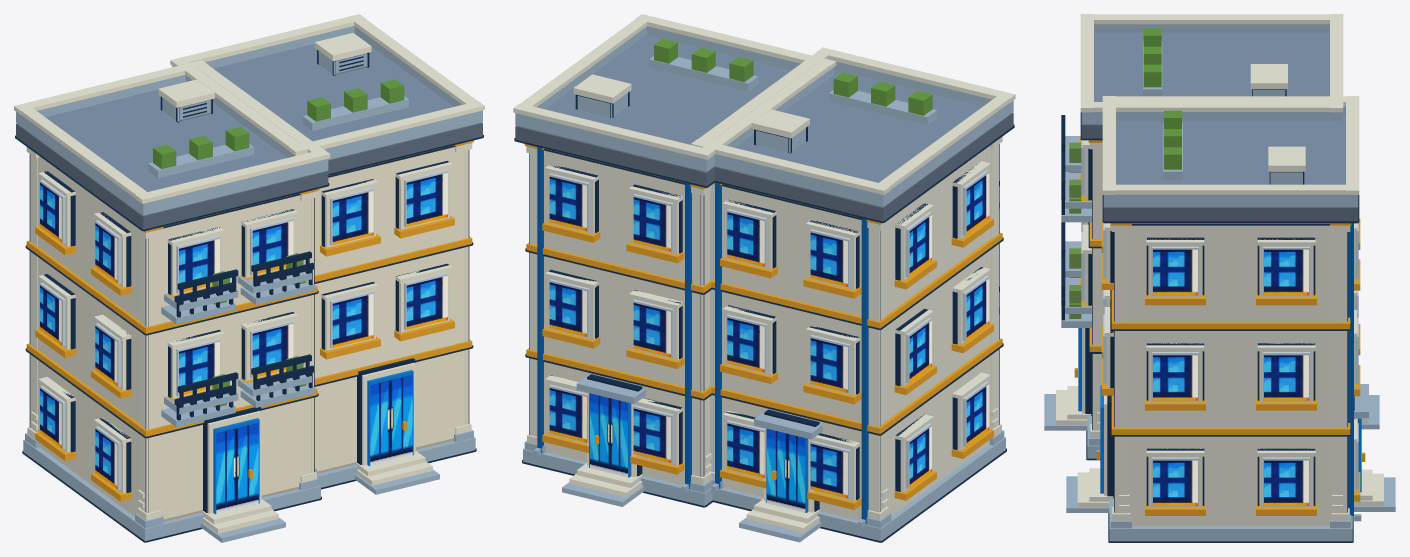
The picture shows the model from 3 angles, left to right: view 1: azimuth 30°, elevation 25°; view 2: azimuth 150°, elevation 25°; view 3: azimuth 270°, elevation 25°; orthographic projection. The views are drawn at different scales.
Visible parts, largest first — view 1: A10 错位双翼公寓; view 2: A10 错位双翼公寓; view 3: A10 错位双翼公寓.
Part boxes in pixels (x1,y1,x2,y2): A10 错位双翼公寓: (14, 14, 484, 542); A10 错位双翼公寓: (513, 14, 1015, 542); A10 错位双翼公寓: (1044, 14, 1395, 542).
Size of the model in its own units: 8.38 by 8.07 by 7.03.
Materials: 2 (1 with a texture image).
